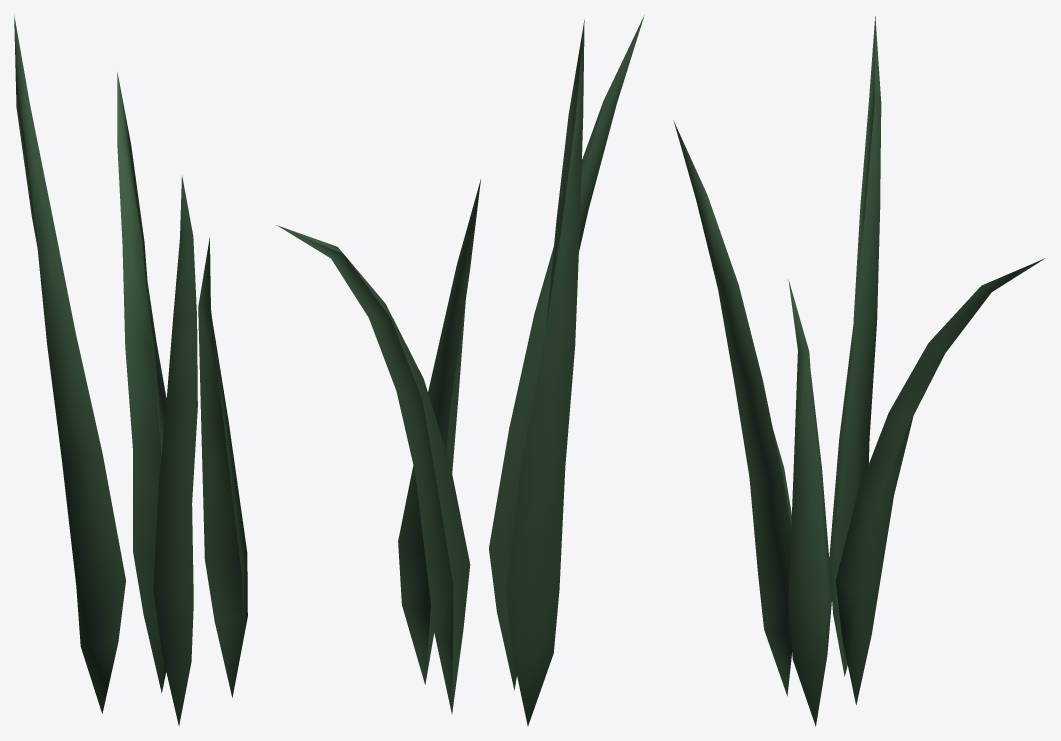
File: trees-grasses-grass-blades_v6.glb
The picture shows the model from 3 angles, left to right: view 1: azimuth 30°, elevation 25°; view 2: azimuth 150°, elevation 25°; view 3: azimuth 270°, elevation 25°; orthographic projection. The views are drawn at different scales.
Parts seen in each view (by area): view 1: Grass Blades_v6; view 2: Grass Blades_v6; view 3: Grass Blades_v6.
Boxes of the visible parts, x1,y1,x2,y2 form: Grass Blades_v6: (14,14,247,725); Grass Blades_v6: (277,15,644,726); Grass Blades_v6: (673,16,1045,726).
Bounding box in the file's own units: 0.0915 × 0.3 × 0.1606.
